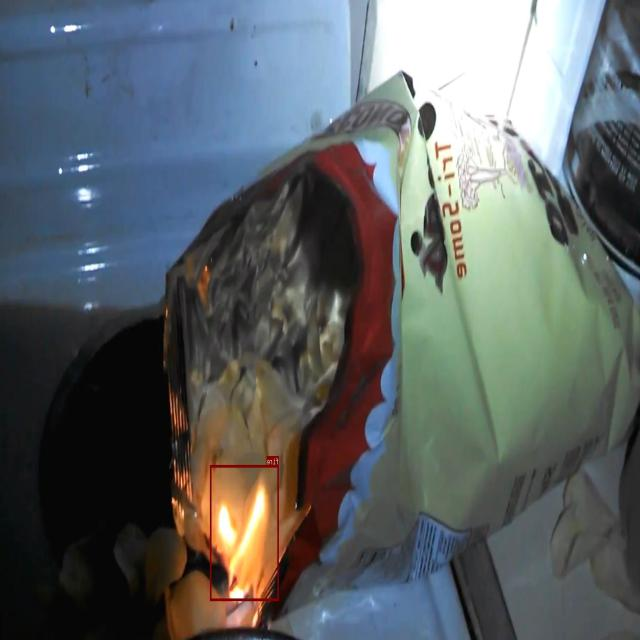fire: (210, 464, 279, 600)
